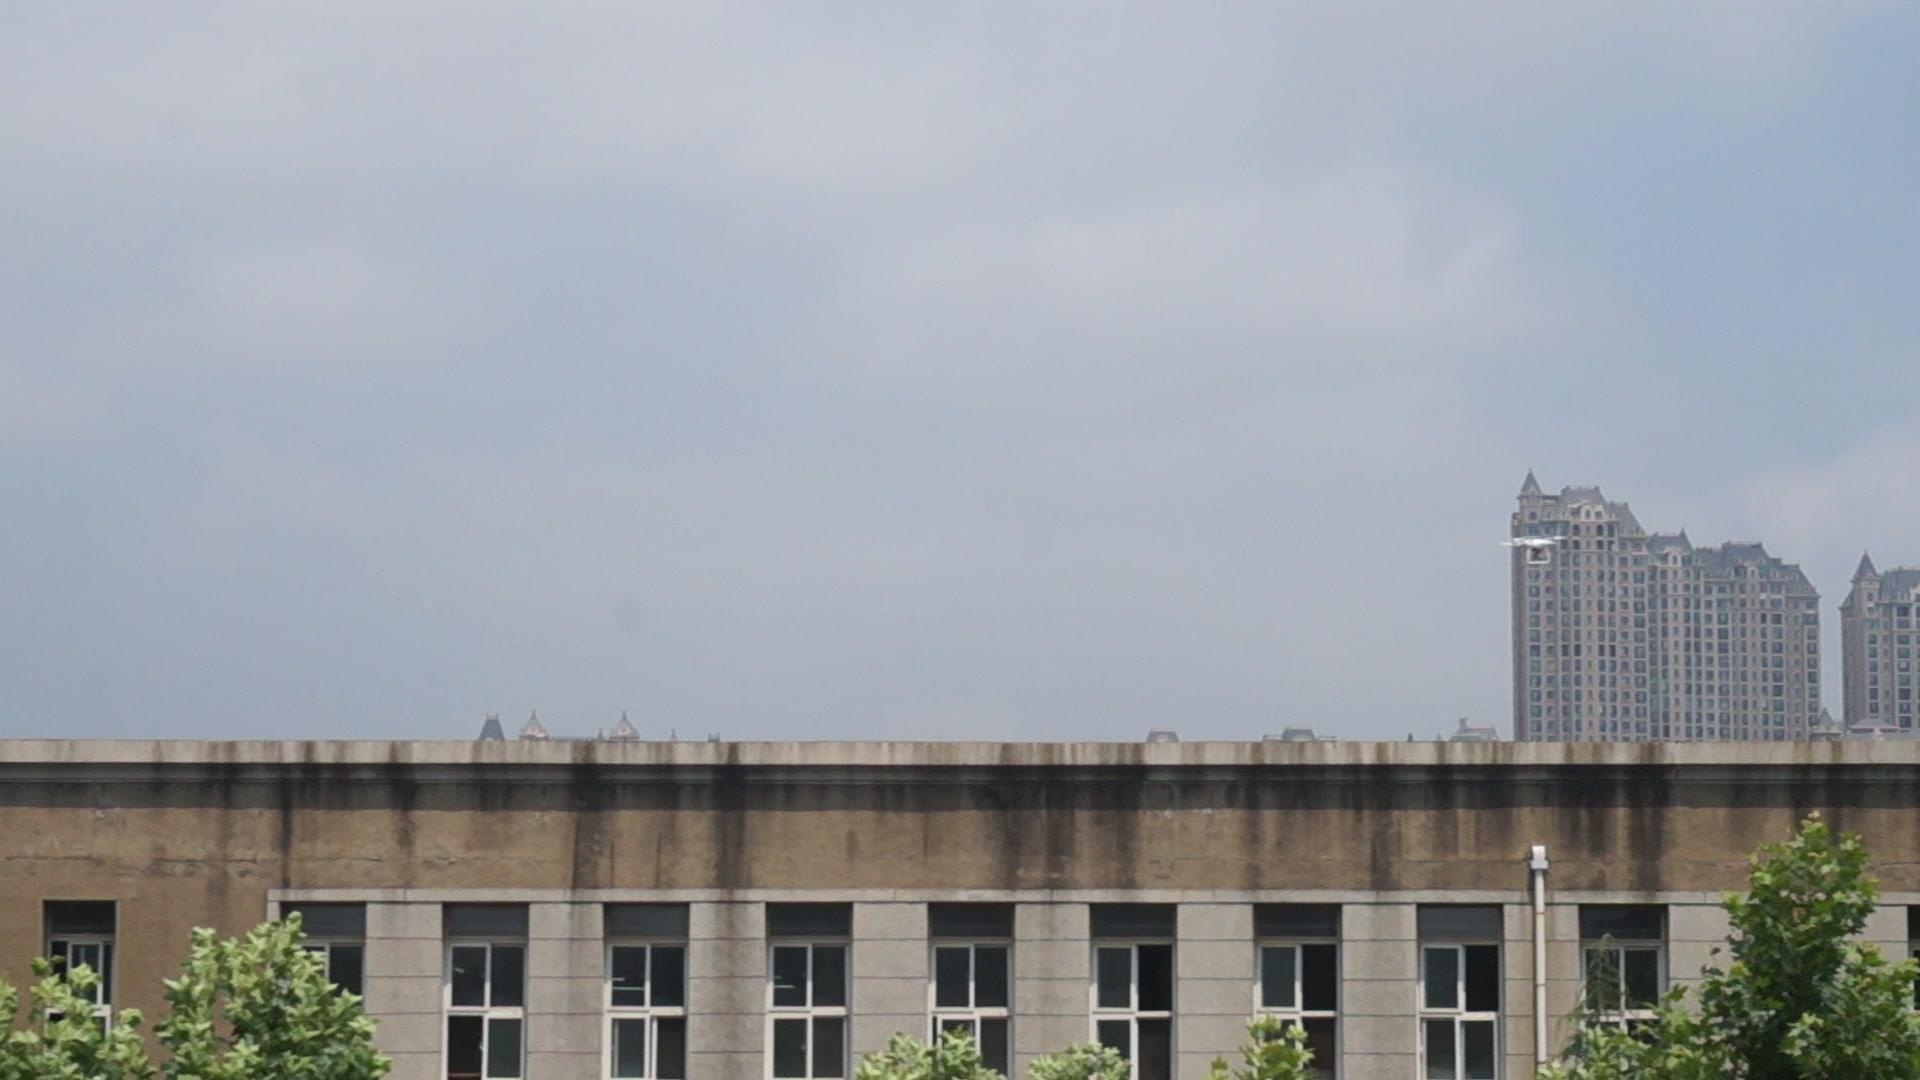UAV: (1501, 537, 1568, 564)
